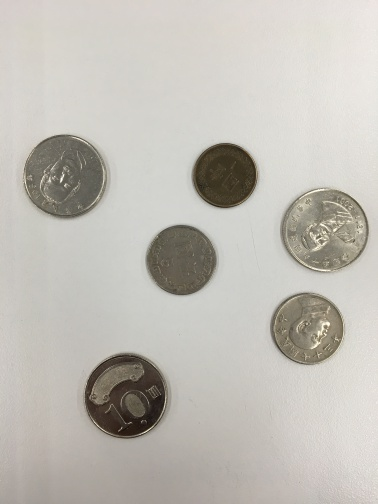1 dollar: (183, 135, 266, 217)
10 dollar: (19, 119, 121, 237), (75, 345, 189, 447), (271, 179, 372, 278)
5 dollar: (258, 288, 354, 374), (141, 214, 225, 307)
